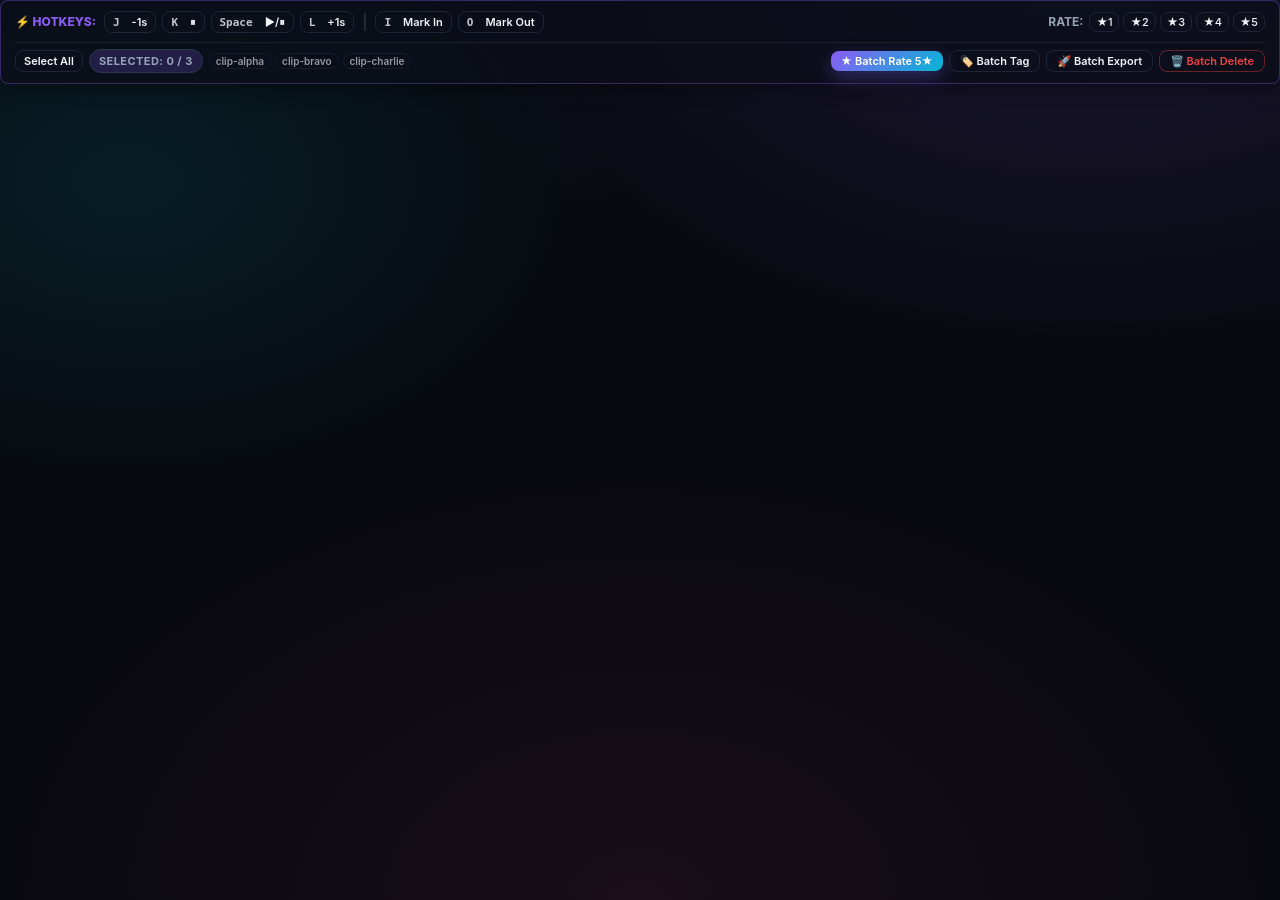
Test case: Milestone M5 Empirical Challenge: Streamer Workflow & Hotkeys Stress Harness › Batch Action Toolbar Edge Cases & Concurrency › supports clip selection toggling across multiple items
Check: the text with test id "selected-count" reads "0", box [166,54,174,68]
Click the button with test id "batch-select-clip-clip-alpha" at (240, 61), box [209,53,271,69]
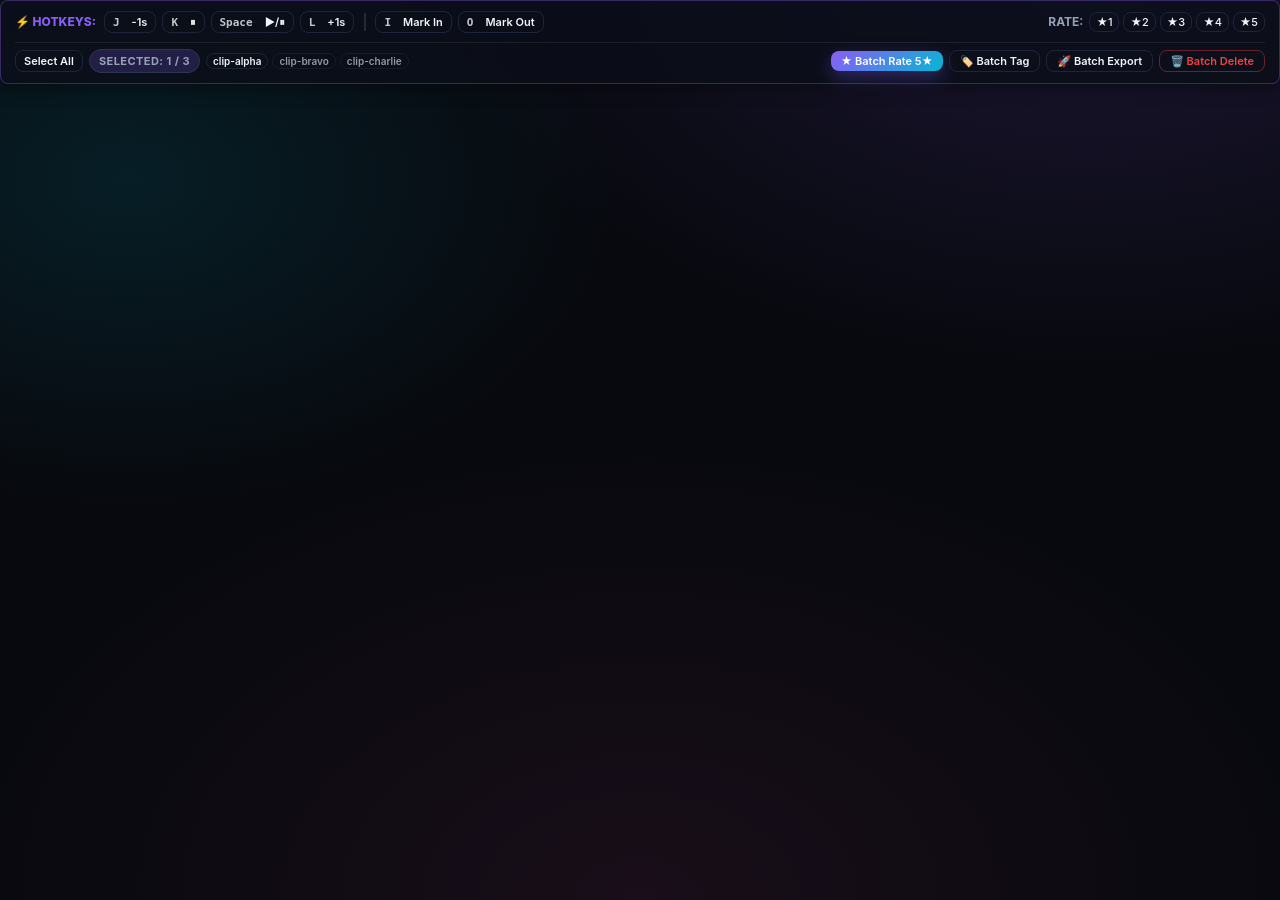
Click the button with test id "batch-select-clip-clip-bravo" at (304, 61), box [272,53,336,69]
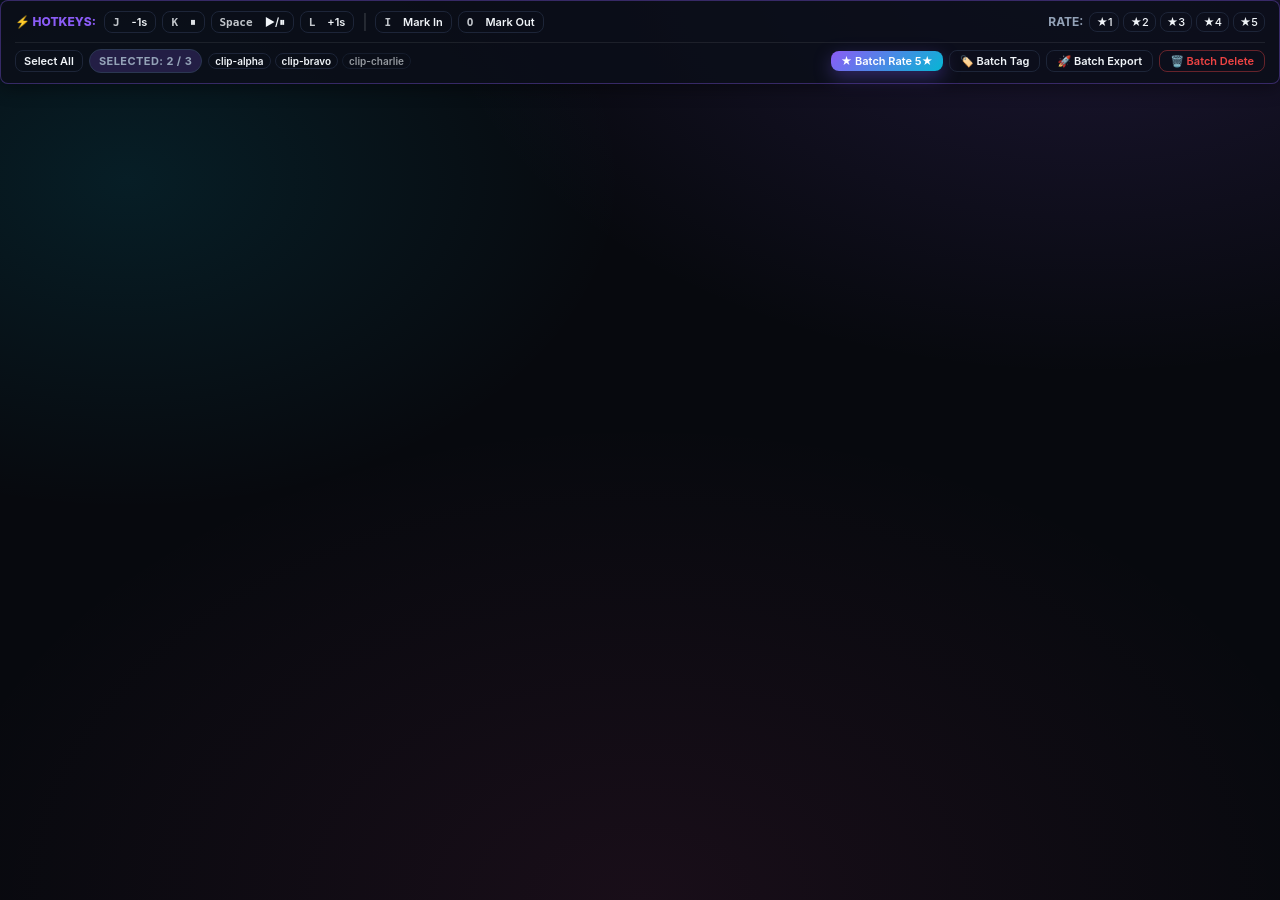
Check: the text with test id "selected-count" reads "2", box [166,54,174,68]
Click the button with test id "batch-select-clip-clip-charlie" at (376, 61), box [342,53,411,69]
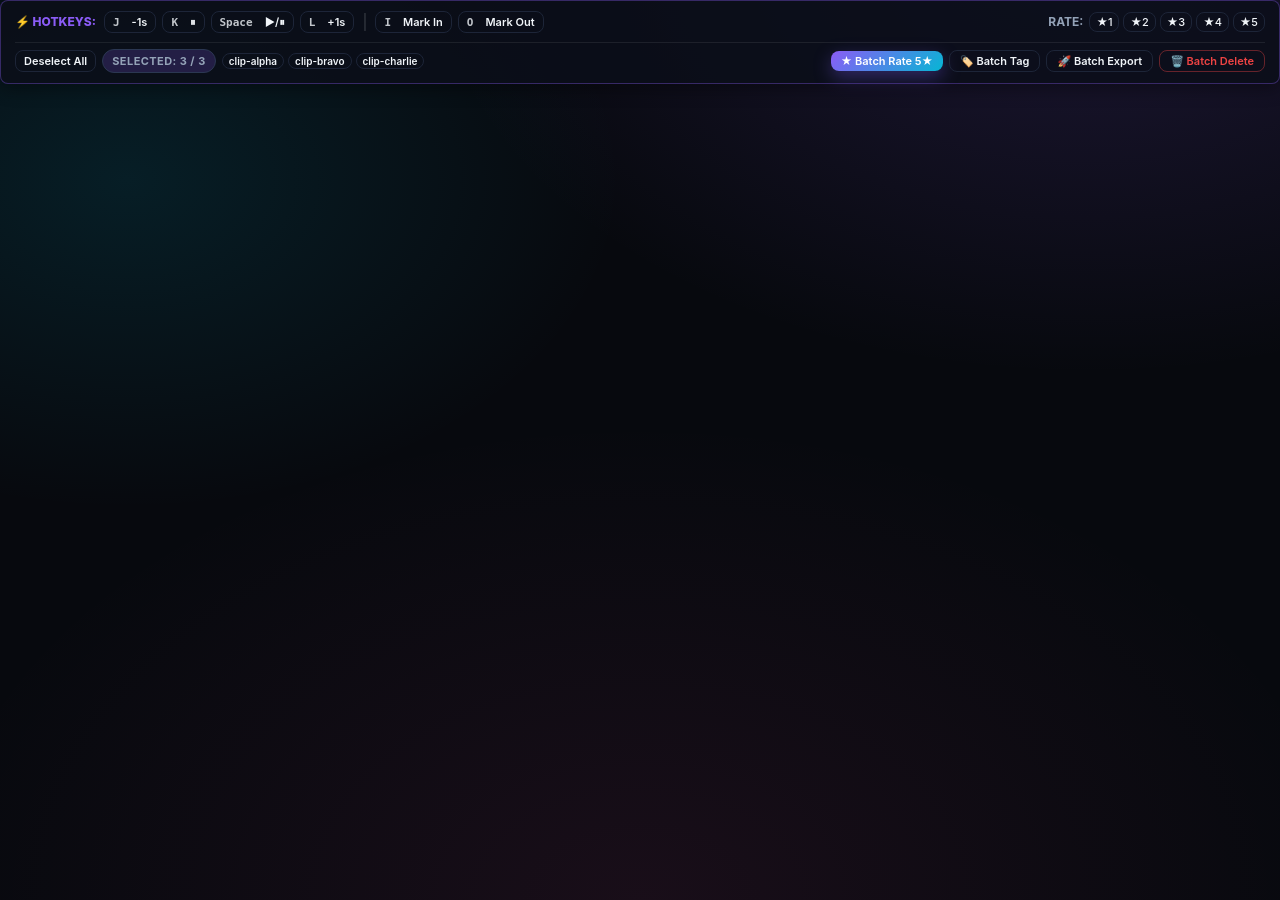
Check: the text with test id "selected-count" reads "3", box [180,54,187,68]
Note: Deselect alpha
Click the button with test id "batch-select-clip-clip-alpha" at (253, 61), box [222,53,284,69]
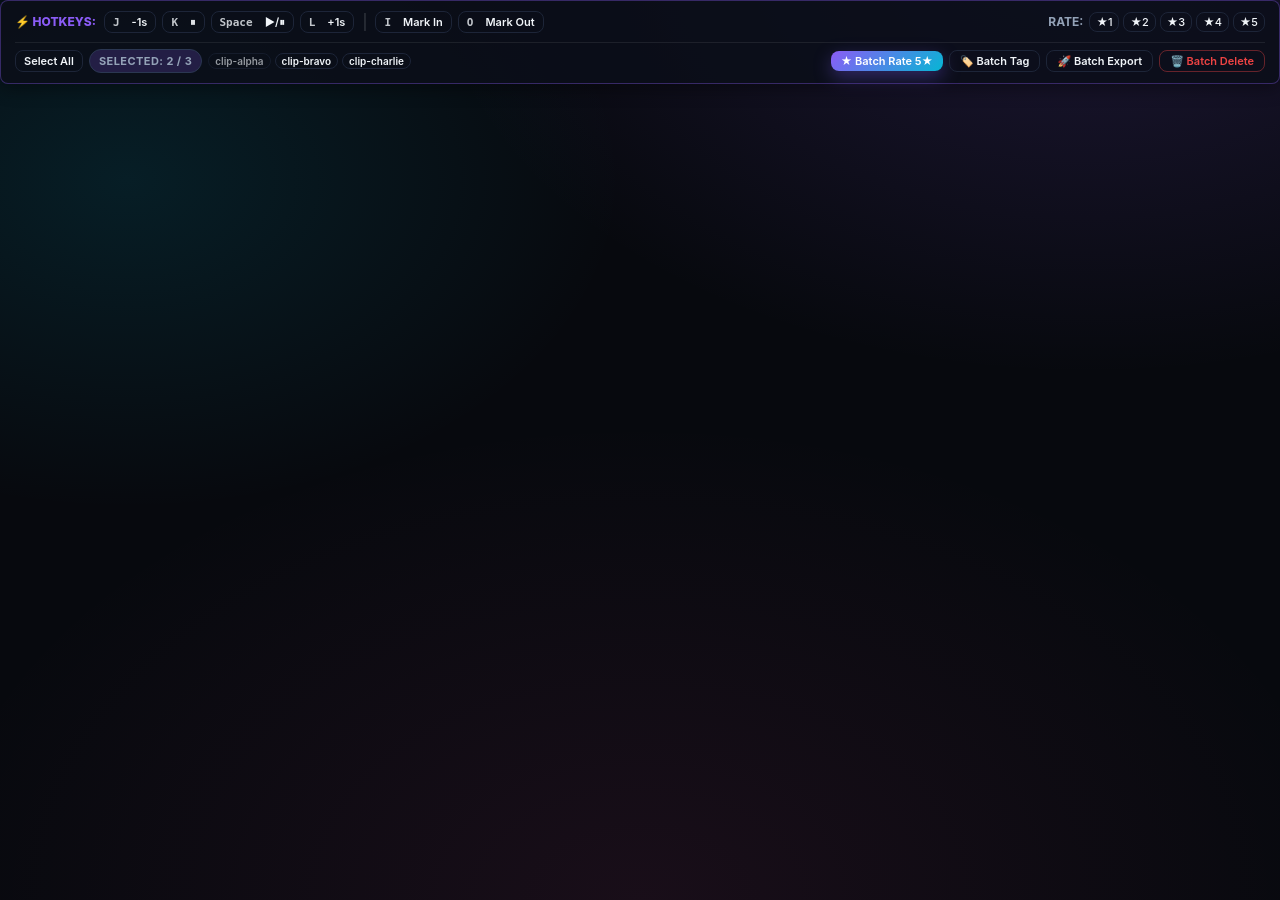
Check: the text with test id "selected-count" reads "2", box [166,54,174,68]
